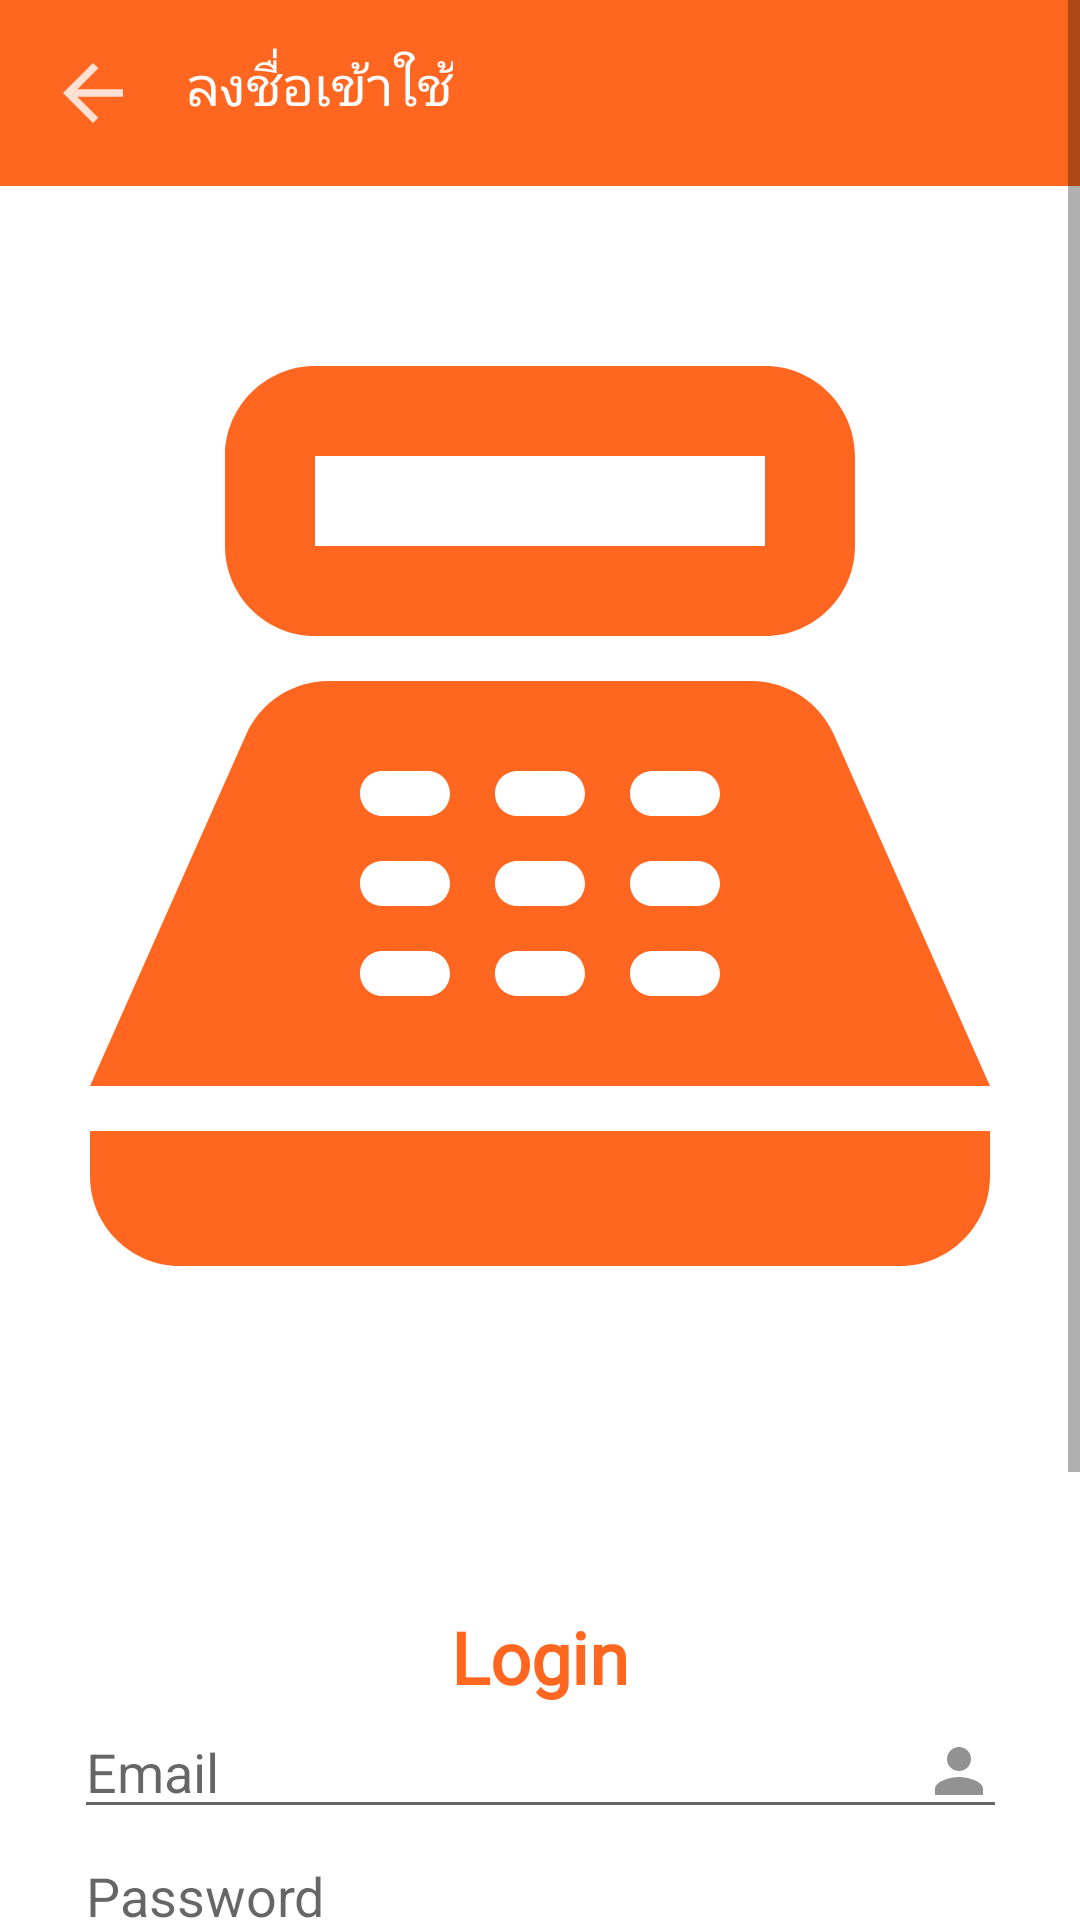

Named icons in this screenshot (1080px×1920px) and their bounding boxes, BBox(x1, y1, x2, y2):
back page: BBox(63, 63, 123, 123)
